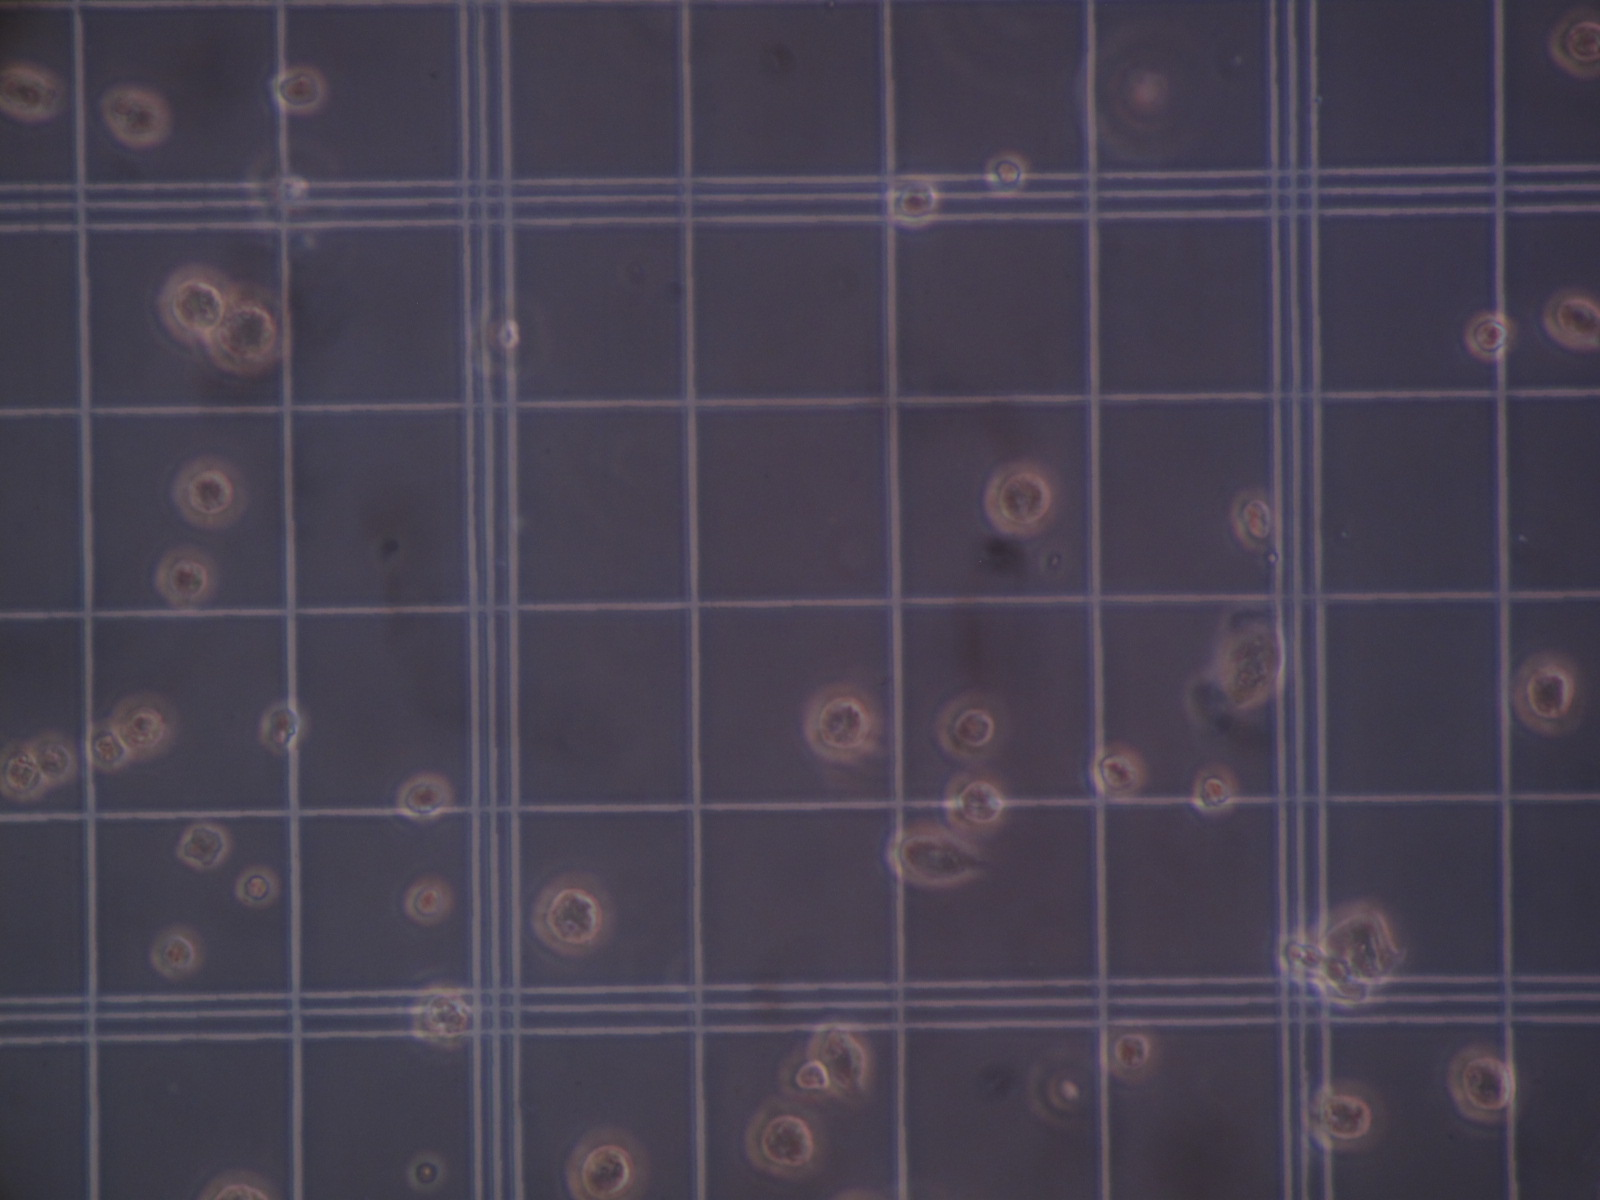hemo: (1073, 42, 1173, 160), (205, 287, 294, 379), (530, 868, 619, 958), (745, 1094, 826, 1180), (152, 263, 236, 347), (1508, 652, 1587, 737), (566, 1124, 650, 1200), (886, 821, 978, 890), (1308, 1073, 1385, 1155), (244, 146, 314, 234), (803, 683, 879, 763), (171, 453, 248, 529), (808, 1016, 876, 1100), (983, 461, 1054, 539), (934, 691, 1012, 763), (1026, 1051, 1092, 1131), (1448, 1047, 1514, 1124), (98, 83, 171, 151), (112, 689, 179, 763), (944, 770, 1007, 837), (409, 983, 472, 1049), (156, 543, 219, 608), (1542, 285, 1600, 352), (1, 61, 63, 122), (1104, 1021, 1162, 1084), (1548, 9, 1600, 79), (1089, 740, 1146, 800), (268, 58, 328, 113), (882, 171, 937, 229), (396, 771, 455, 826), (1, 740, 49, 804), (780, 1047, 834, 1104), (1230, 488, 1277, 551), (26, 731, 78, 788), (149, 928, 204, 979), (404, 870, 454, 926), (260, 701, 309, 758), (178, 823, 232, 872), (1464, 313, 1516, 363), (82, 720, 130, 773), (1191, 764, 1237, 818), (198, 1168, 275, 1200), (985, 150, 1027, 195), (236, 867, 280, 909), (406, 1155, 446, 1191)
